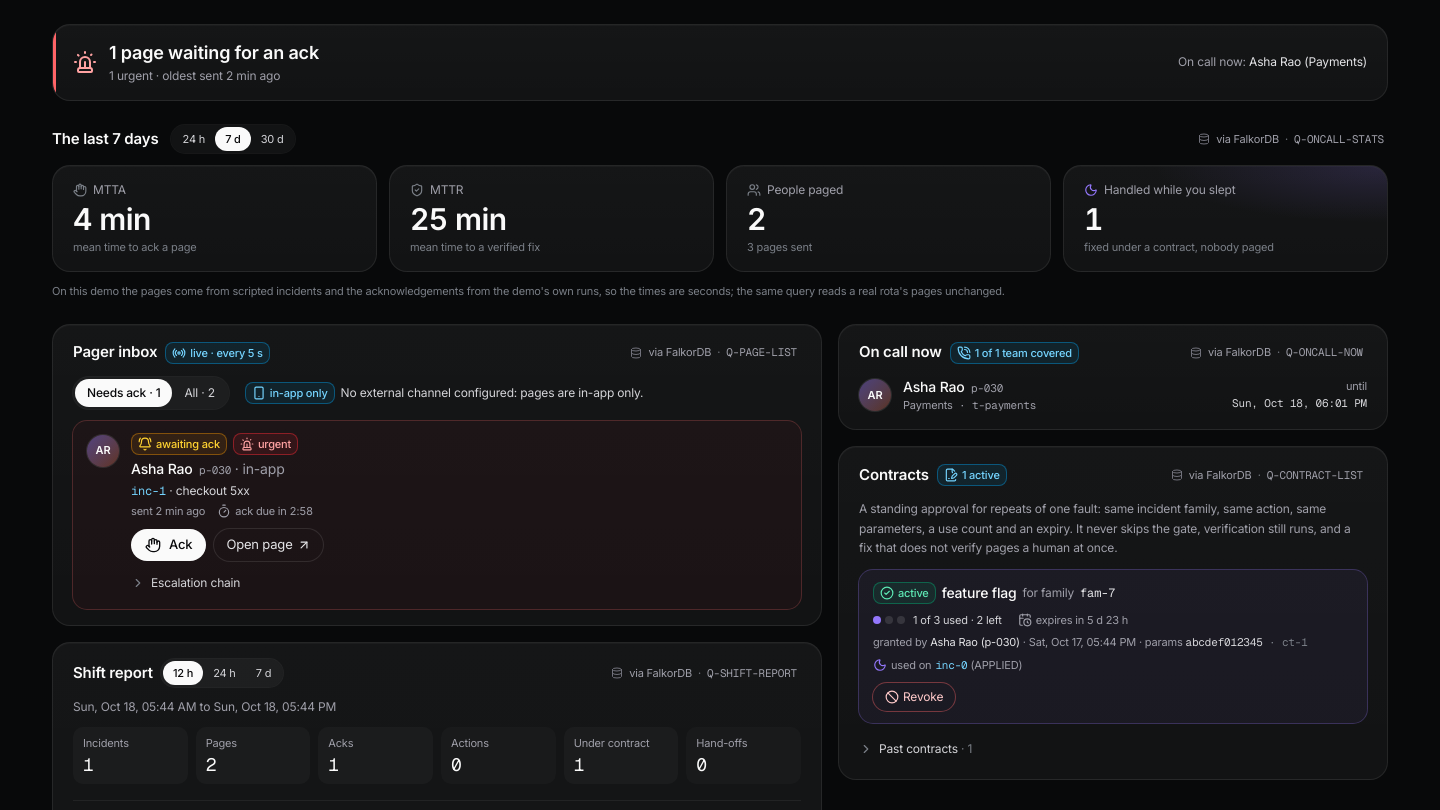
Test case: /oncall › uses the ack token the server handed this console, never showing it
Click the button with aria-label "Ack the page to Asha Rao".
click(169, 545)  # box [131,529,206,561]
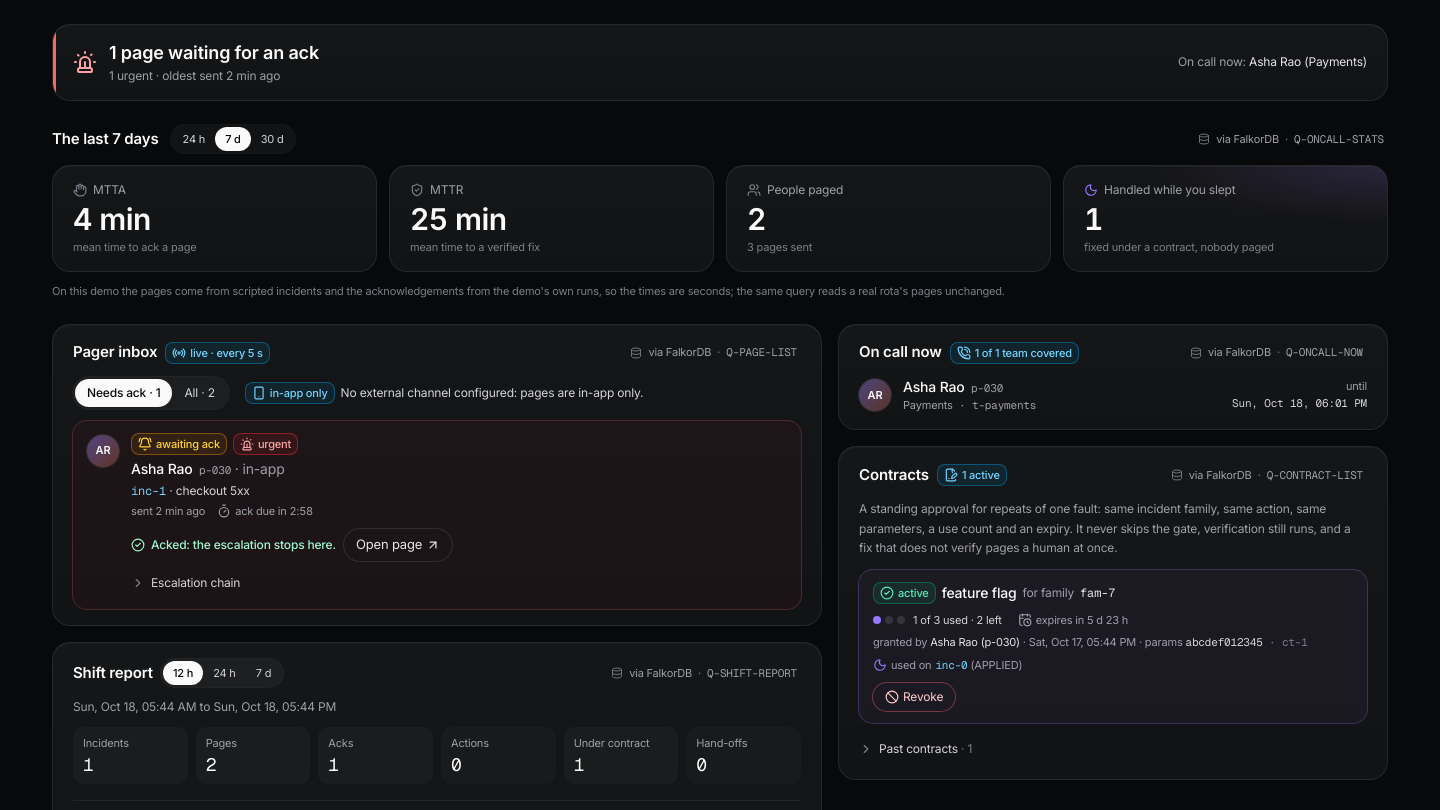
expect the text "Acked: the escalation stops here." is shown: met, box [131,537,336,553]
